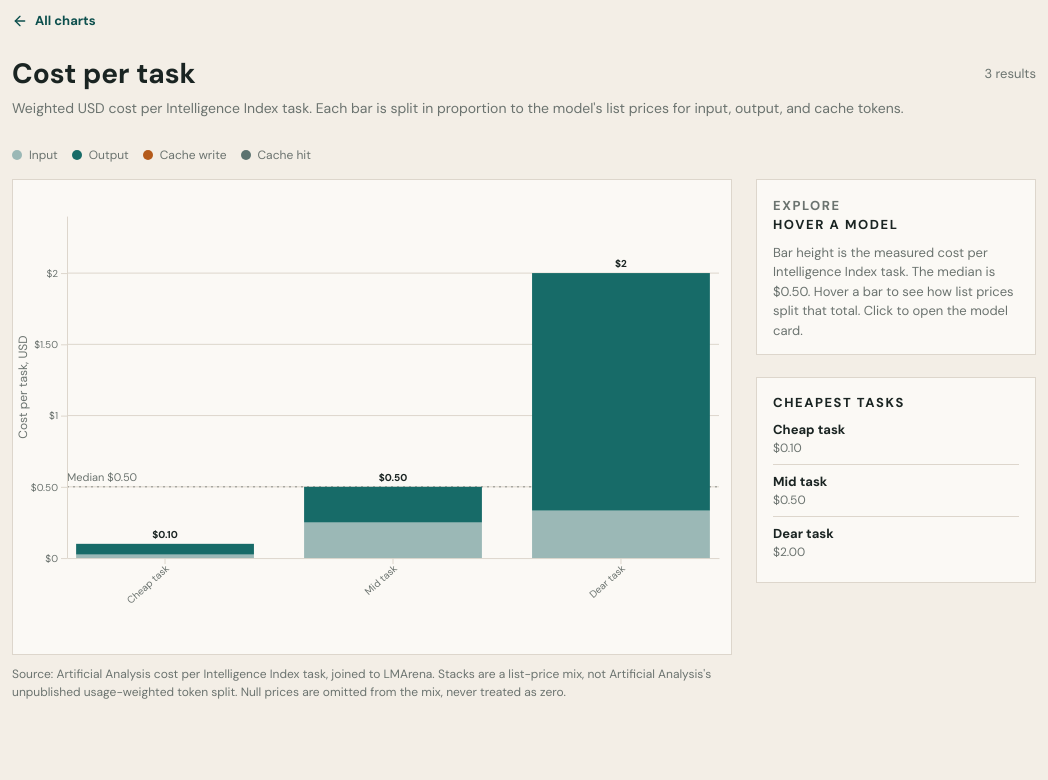
Test: CostPerTaskPage › lists cheapest models and inspects a price mix on hover
The width and height of the screenshot is (1048, 780).
Expected: the heading "Cost per task" is shown, [12,55,196,92]
Expected: the link "Mid task $0.50" is shown, [773,464,1019,516]
Step 1. Hover over the link "Cheap task $0.10" → point(809, 438), box [773,421,845,456]
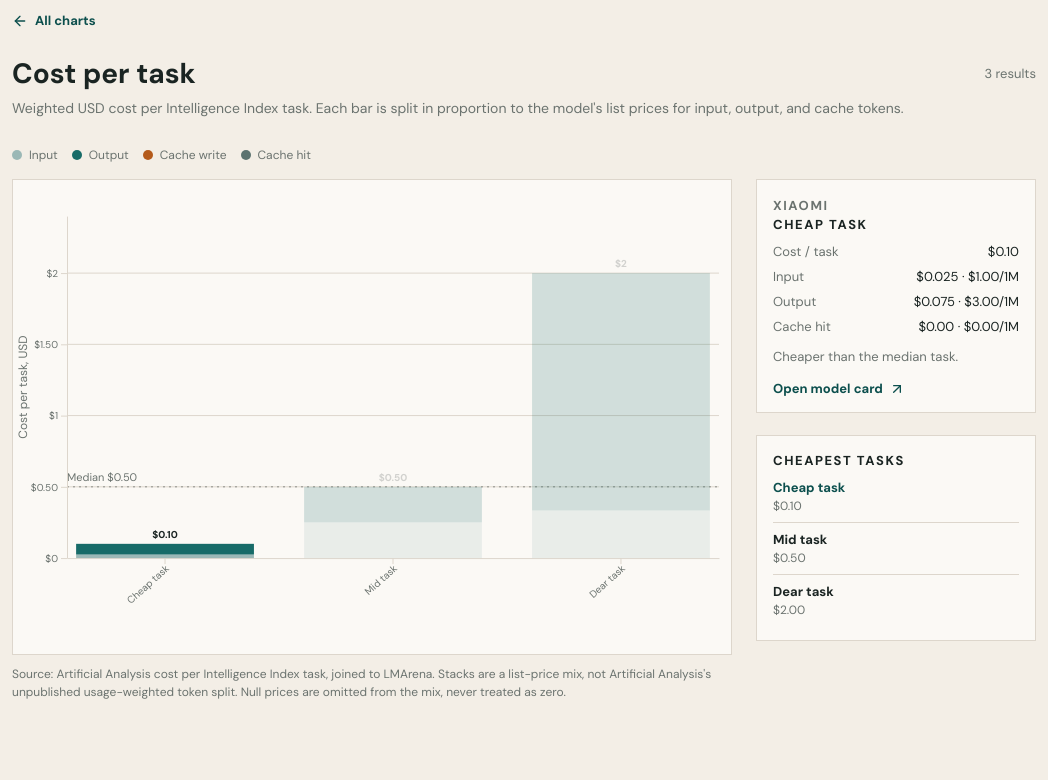
Expected: the button "Input" is shown, [12,147,58,163]
Result: the heading "Cheap task" is shown at [773,216,868,232]
Result: the text "Cheaper than the median task." is shown at [773,348,958,364]
